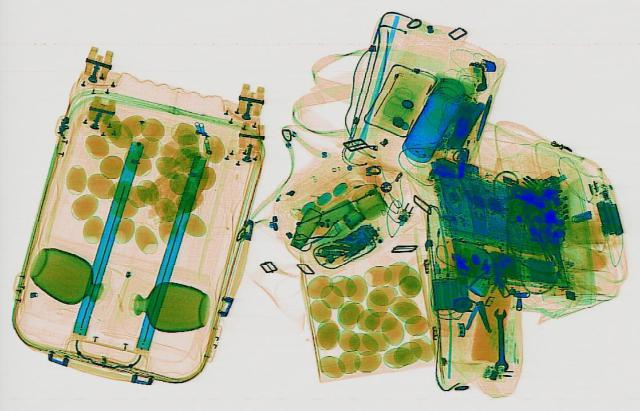Wrench: (492, 306, 508, 368)
